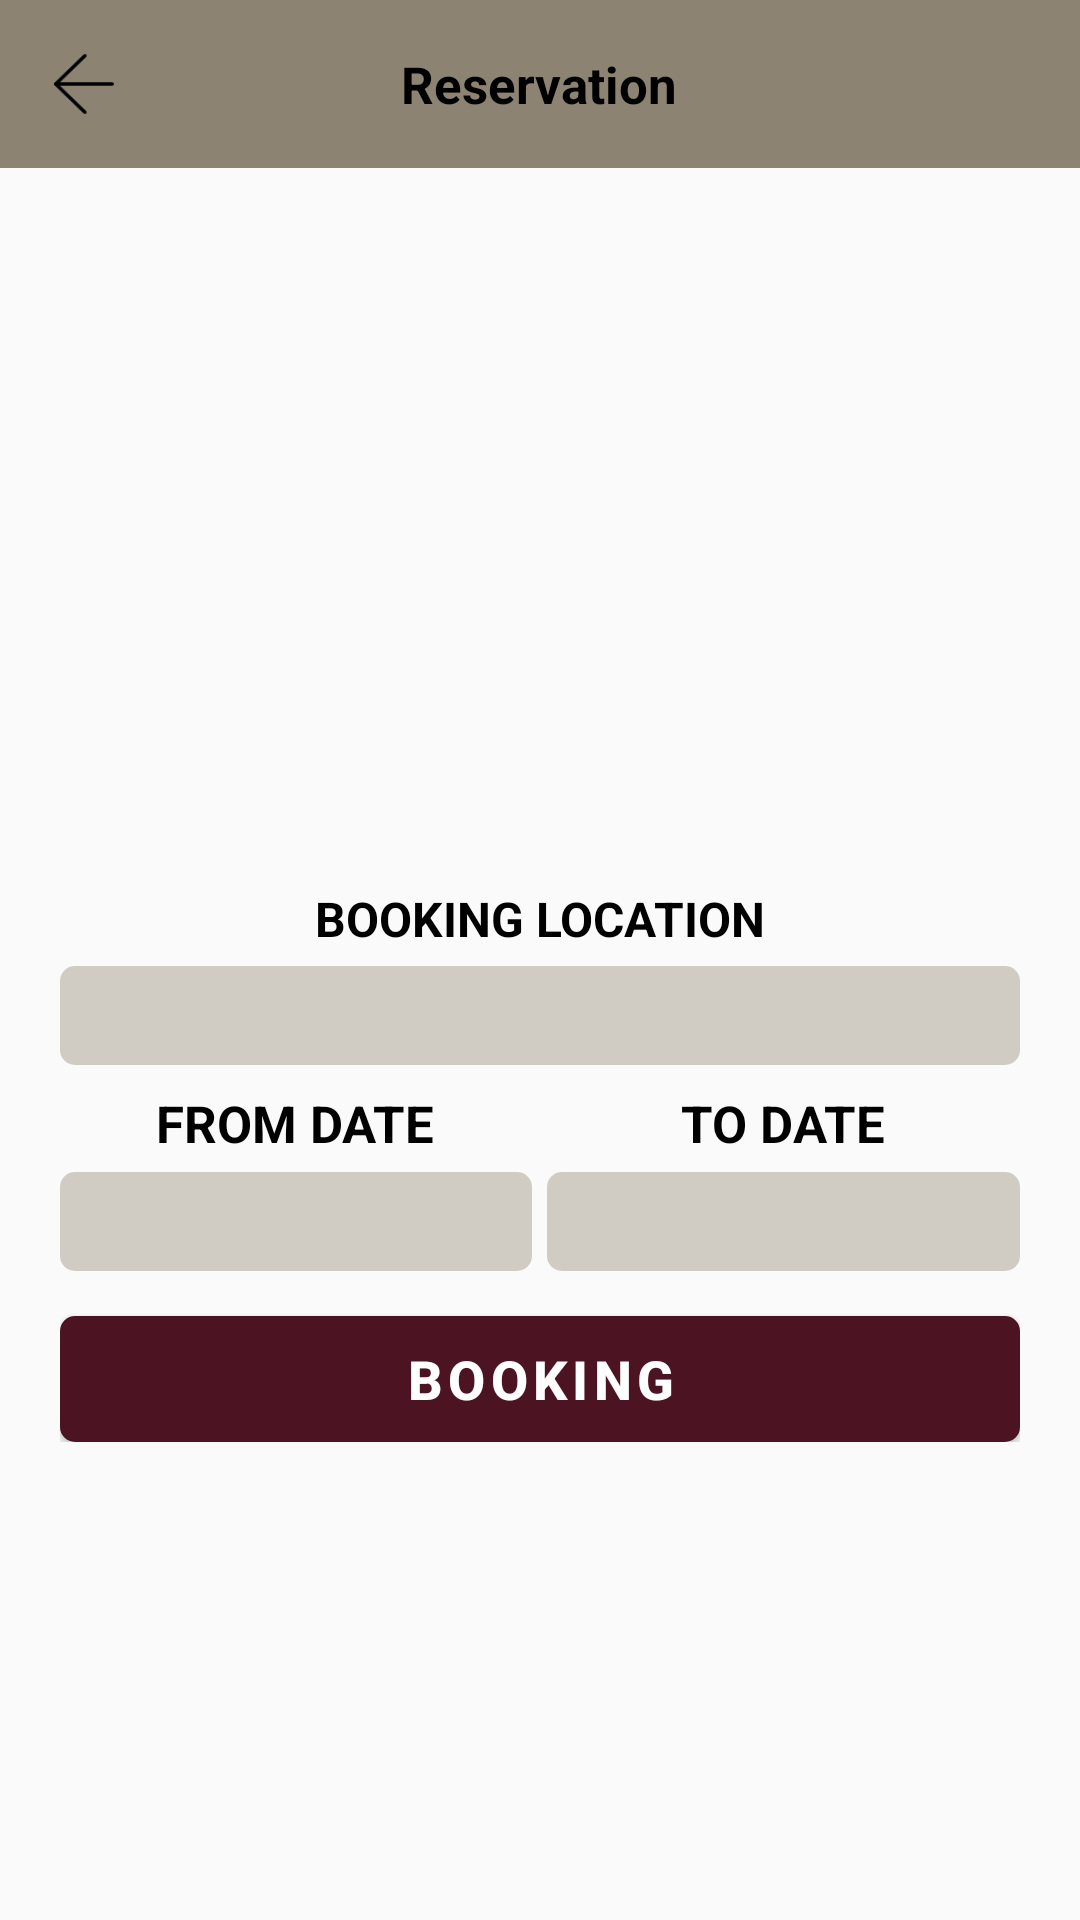

Screen size 1080 × 1920. Icon name, then its center in pixels as point (x, y):
back arrow: point (84, 84)
